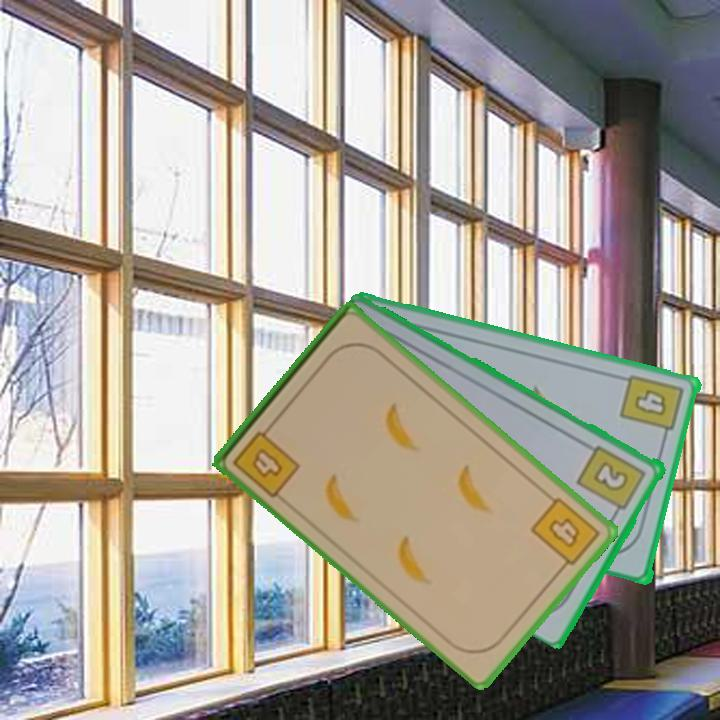2b: (574, 441, 649, 520)
4b: (527, 493, 603, 575), (229, 419, 303, 501), (618, 370, 688, 444)
